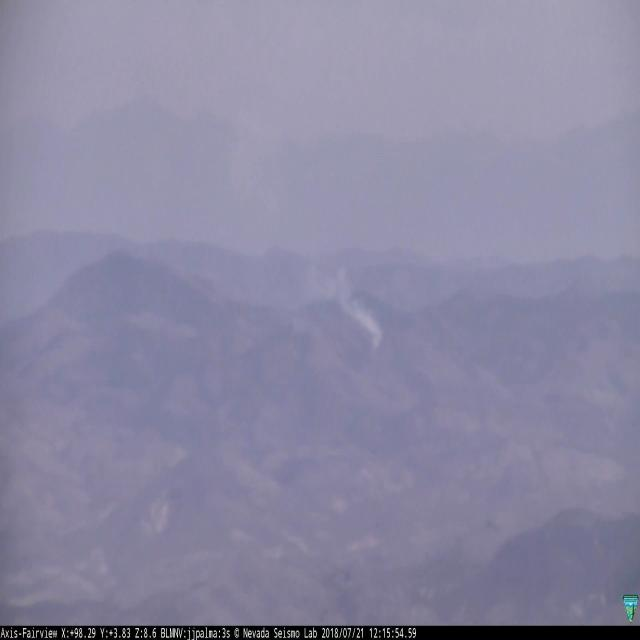smoke: (302, 266, 383, 342)
